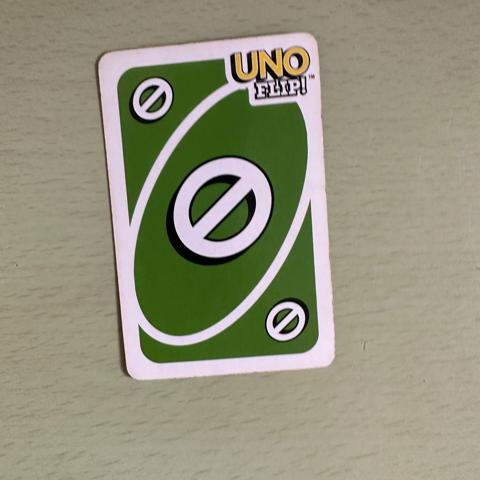lgreenskip-20: (114, 65, 186, 141)
